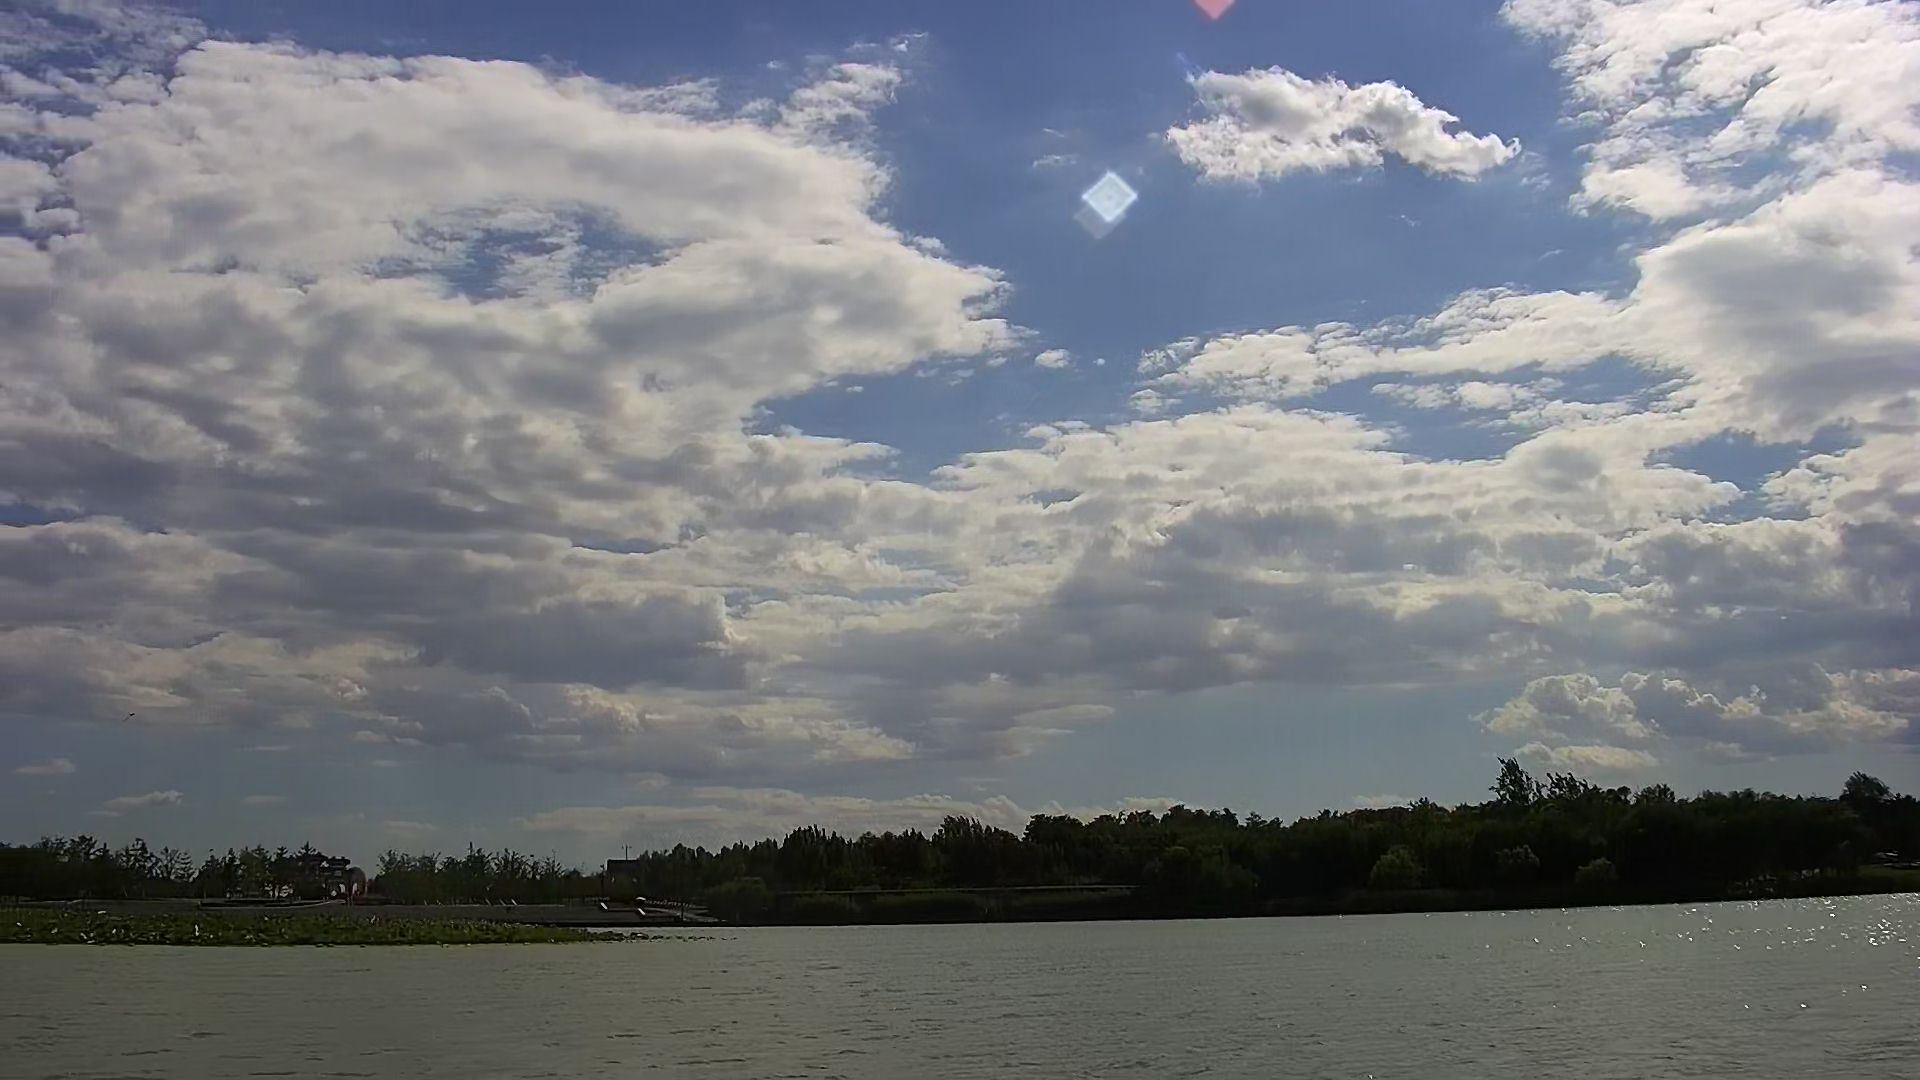harbor: (233, 893, 721, 930)
